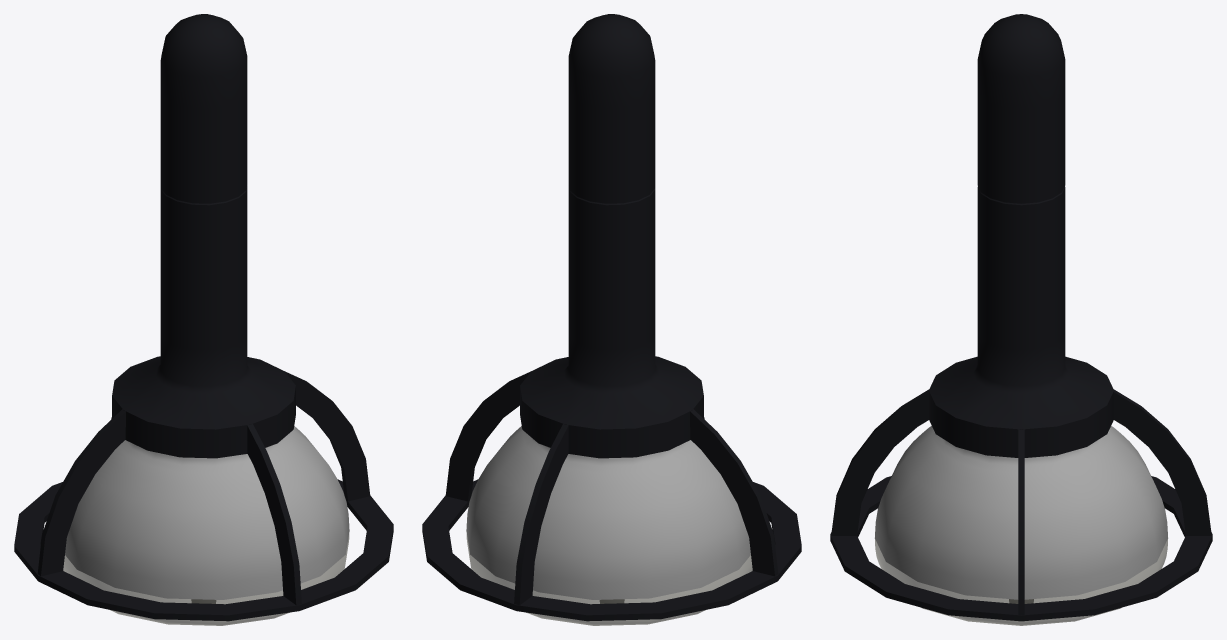
File: Urbi_3.glb
The picture shows the model from 3 angles, left to right: view 1: azimuth 30°, elevation 25°; view 2: azimuth 150°, elevation 25°; view 3: azimuth 270°, elevation 25°; orthographic projection.
Visible parts, largest first — view 1: Lampenkopf.010, Strebe.001, Lampenglas.001; view 2: Lampenkopf.010, Strebe.001, Lampenglas.001; view 3: Lampenkopf.010, Strebe.001, Lampenglas.001.
Part boxes in pixels (x1,y1,x2,y2): Lampenkopf.010: (14, 14, 393, 621); Strebe.001: (37, 371, 370, 605); Lampenglas.001: (63, 531, 349, 625); Lampenkopf.010: (422, 14, 801, 621); Strebe.001: (445, 371, 778, 605); Lampenglas.001: (466, 531, 752, 625); Lampenkopf.010: (830, 14, 1212, 621); Strebe.001: (831, 389, 1211, 614); Lampenglas.001: (875, 539, 1167, 625).
Bounding box in the file's own units: 0.6559 × 1.13 × 0.6559.
Materials: 3 (2 with a texture image).
